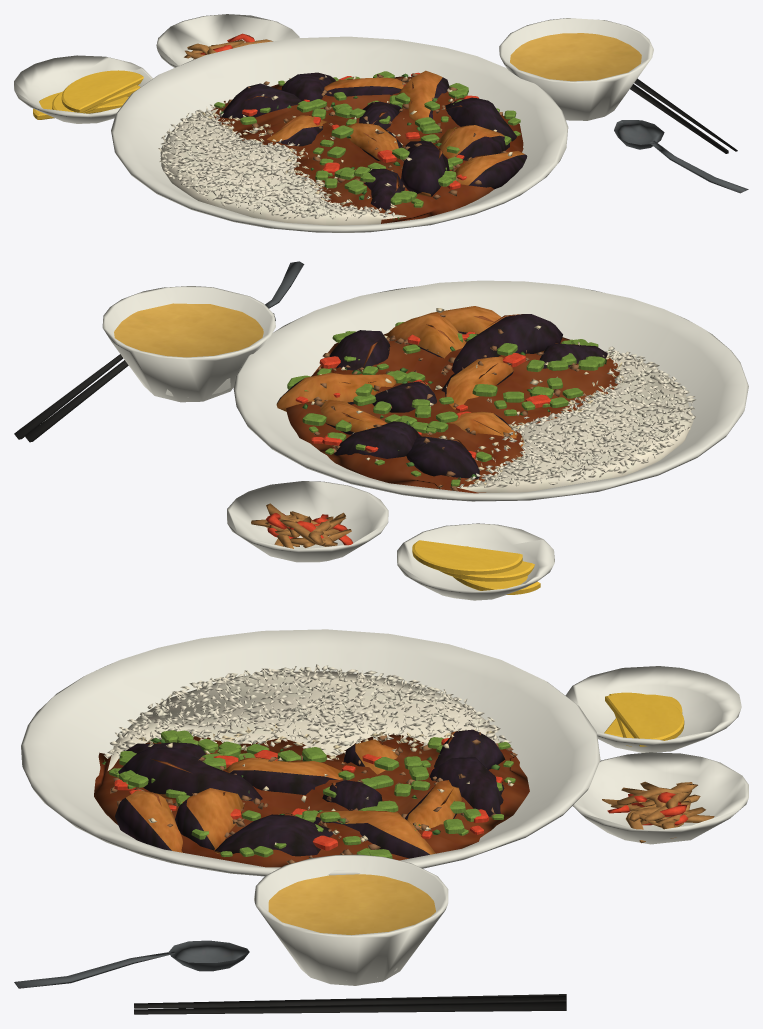
File: meal.glb
The picture shows the model from 3 angles, top to bottom: view 1: azimuth 30°, elevation 25°; view 2: azimuth 150°, elevation 25°; view 3: azimuth 270°, elevation 25°; orthographic projection. The views are drawn at different scales.
Parts seen in each view (by area): view 1: HokyungEggplantRice; view 2: HokyungEggplantRice; view 3: HokyungEggplantRice.
Part boxes in pixels (left/top/right/bottom): HokyungEggplantRice: left=14, top=14, right=748, bottom=232; HokyungEggplantRice: left=14, top=261, right=748, bottom=600; HokyungEggplantRice: left=14, top=629, right=748, bottom=1014.
Bounding box in the file's own units: 0.3791 × 0.0449 × 0.3621.
Materials: 1 (1 with a texture image).
